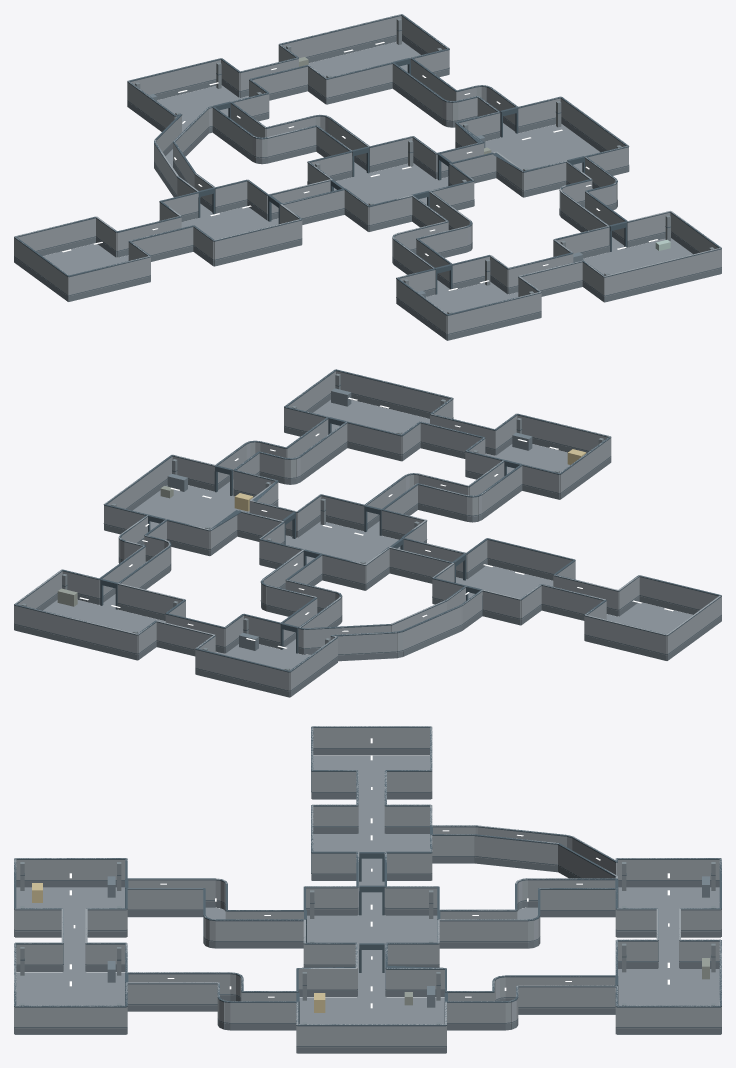
Rendered from night-arena.wide.glb.
3 views of the same model, one above another, from view 1: azimuth 30°, elevation 25°; view 2: azimuth 150°, elevation 25°; view 3: azimuth 270°, elevation 25° (orthographic). The views are drawn at different scales.
Parts seen in each view (by area): view 1: BUNKER_WALL, BUNKER_FLOOR, BUNKER_TRIM, BUNKER_WALL_LOWER, BUNKER_RIB; view 2: BUNKER_WALL, BUNKER_TRIM, BUNKER_FLOOR, BUNKER_WALL_LOWER, BUNKER_PROPS, BUNKER_RIB; view 3: BUNKER_WALL, BUNKER_FLOOR, BUNKER_WALL_LOWER, BUNKER_TRIM, BUNKER_RIB, BUNKER_PROPS.
Part boxes in pixels (x1,y1,x2,y2): BUNKER_WALL: (14, 14, 721, 334); BUNKER_FLOOR: (43, 41, 692, 340); BUNKER_TRIM: (14, 14, 721, 334); BUNKER_WALL_LOWER: (14, 35, 721, 340); BUNKER_RIB: (135, 18, 714, 313); BUNKER_WALL: (14, 369, 721, 691); BUNKER_TRIM: (14, 369, 721, 691); BUNKER_FLOOR: (43, 400, 692, 669); BUNKER_WALL_LOWER: (14, 394, 721, 697); BUNKER_PROPS: (167, 388, 532, 650); BUNKER_RIB: (21, 373, 603, 670); BUNKER_WALL: (14, 726, 721, 1047); BUNKER_FLOOR: (15, 755, 720, 1034); BUNKER_WALL_LOWER: (14, 749, 721, 1053); BUNKER_TRIM: (14, 726, 721, 1046); BUNKER_RIB: (20, 862, 715, 1024); BUNKER_PROPS: (107, 876, 709, 1007).
Bounding box in the file's own units: 95.31 × 4.29 × 95.31.
